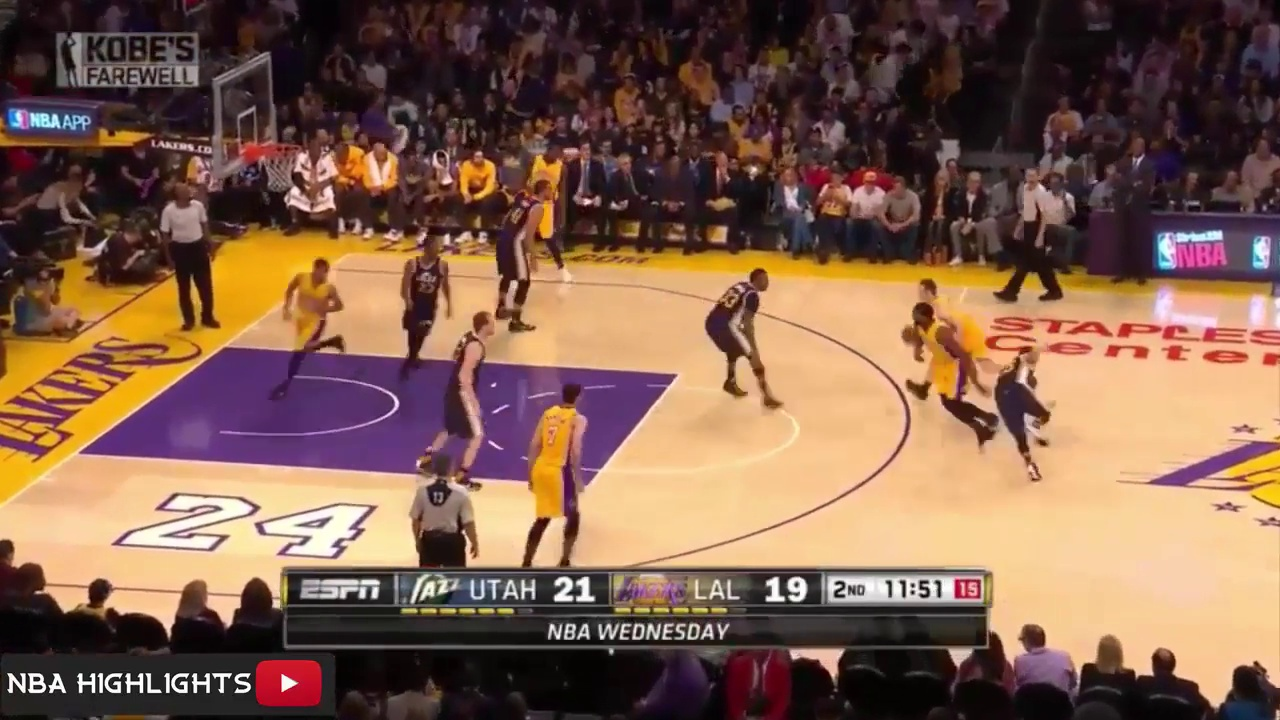jazz: (426, 312, 499, 478), (709, 263, 786, 412), (997, 336, 1063, 485), (494, 178, 554, 332), (398, 234, 453, 375)
lakers: (905, 306, 998, 454), (529, 381, 597, 568), (278, 258, 350, 399), (915, 273, 989, 395), (531, 144, 569, 287)
